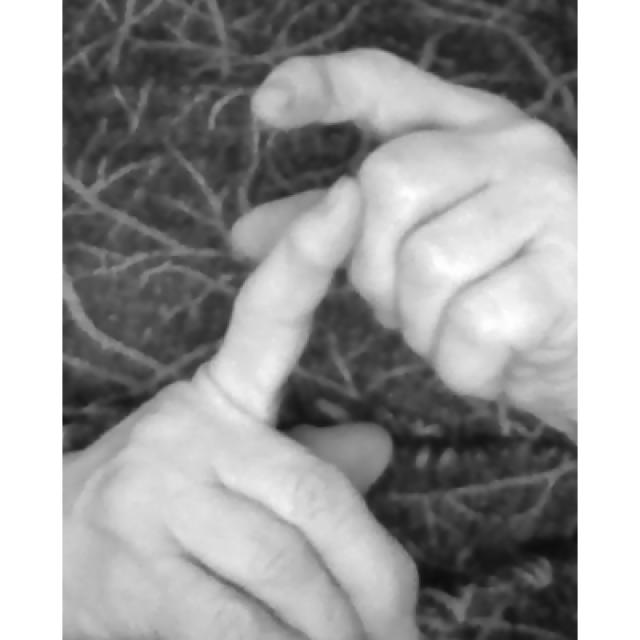C_: (61, 44, 577, 640)
